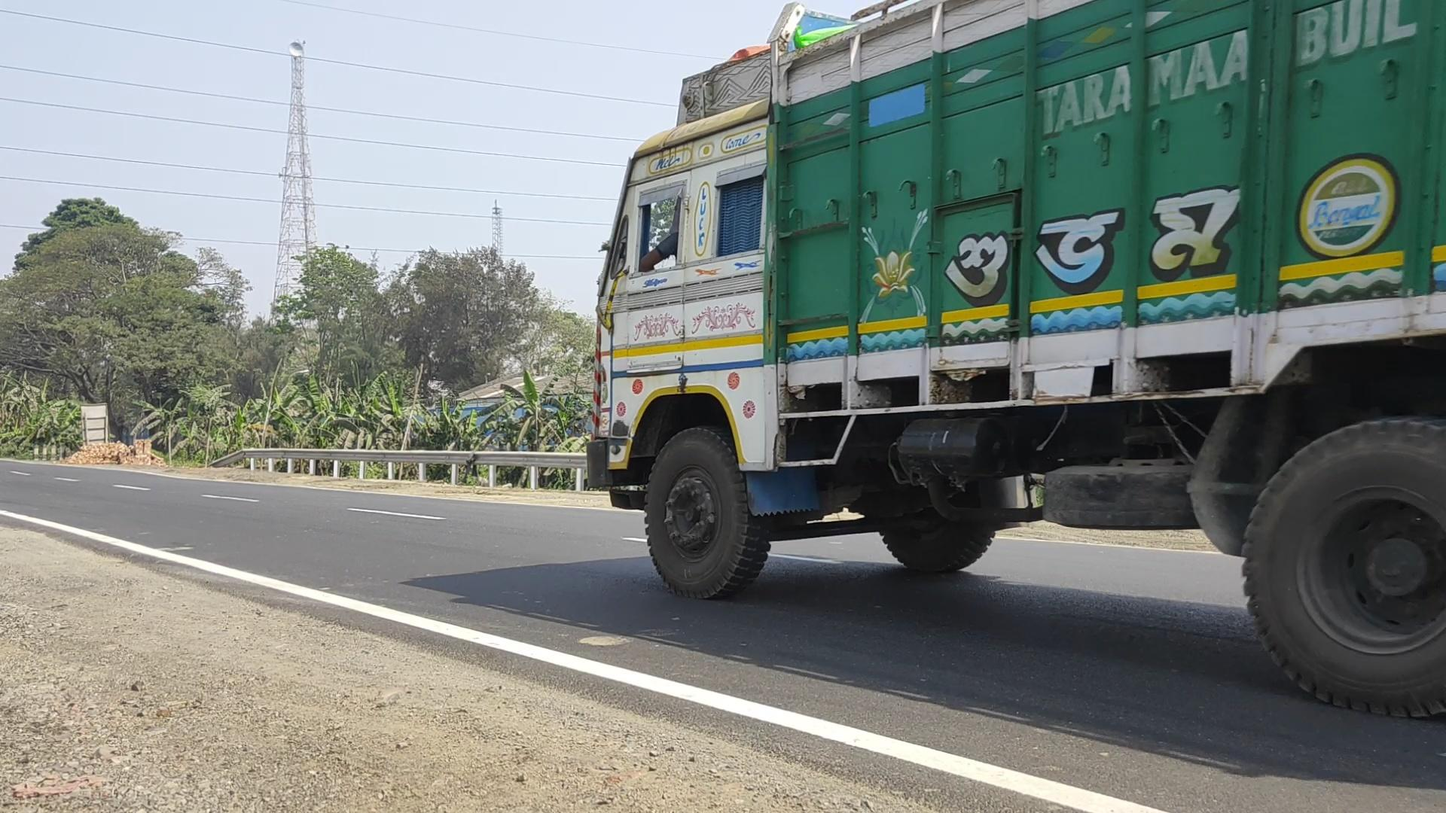truck: (585, 2, 1446, 720)
